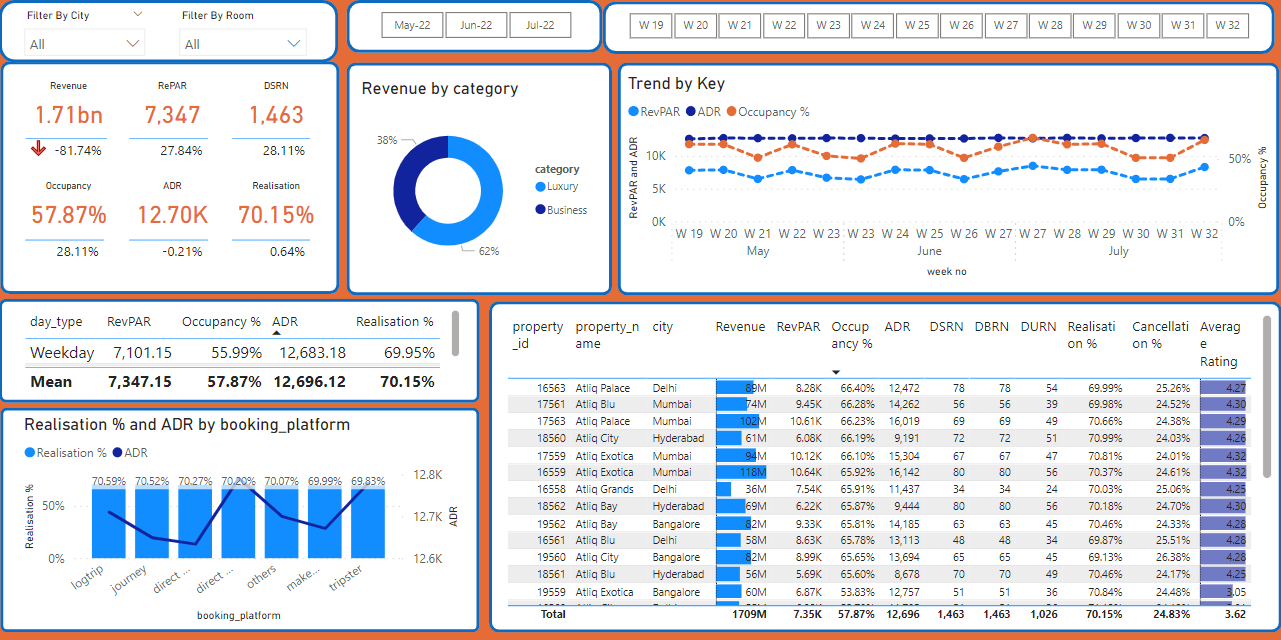

This screenshot's page, from the dashboard's own definition file:
{"tool":"powerbi","page":{"name":"Page 1","canvas":[1282,640],"ordinal":0},"visuals":[{"type":"shape","box":[489.5,301.7,792.5,330.8],"z":0},{"type":"shape","box":[1.7,407.5,479.2,225],"z":1000},{"type":"shape","box":[0,299.2,480.8,104.2],"z":2000},{"type":"shape","box":[0.9,61.8,339.1,232.7],"z":3000},{"type":"shape","box":[618.6,62.9,661.4,232.9],"z":4000},{"type":"shape","box":[348,63,265.5,232.7],"z":5000},{"type":"shape","box":[604,1,672,53],"z":6000},{"type":"shape","box":[347.9,0,256.2,52.5],"z":7000},{"type":"shape","box":[0,0,339.3,62.7],"z":8000},{"type":"tableEx","fields":{"Values":["key_measure_table.\"Occupancy WoW change %"]},"box":[20,206.3,100,72],"z":9000},{"type":"tableEx","fields":{"Values":["key_measure_table.\"Realisation WoW change %"]},"box":[226.6,206.3,100,72],"z":10000},{"type":"tableEx","fields":{"Values":["key_measure_table.\"ADR WoW change %"]},"box":[123.6,206,100,72],"z":11000},{"type":"tableEx","fields":{"Values":["key_measure_table.\"DSRN WoW change %"]},"box":[226.6,105.3,100,72],"z":12000},{"type":"tableEx","fields":{"Values":["key_measure_table.\"Revpar WoW change %"]},"box":[123.6,105,100,72],"z":13000},{"type":"tableEx","fields":{"Values":["dim_hotel.property_id","dim_hotel.property_name","dim_hotel.city","key_measure_table.Revenue","key_measure_table.RevPAR","key_measure_table.Occupancy %","key_measure_table.ADR","key_measure_table.DSRN","key_measure_table.DBRN","key_measure_table.DURN","key_measure_table.Realisation %","key_measure_table.Cancellation %"]},"box":[502,310,775,317],"z":14000},{"type":"slicer","fields":{"Values":["dim_hotel.city"]},"box":[15.3,3.7,141.3,54.7],"z":15000},{"type":"slicer","fields":{"Values":["dim_room.room_class"]},"box":[170,4.3,147.3,53.3],"z":16000},{"type":"slicer","fields":{"Values":["dim_date.mmm yy"]},"box":[356,5.3,240,40],"z":17000},{"type":"slicer","fields":{"Values":["dim_date.week no"]},"box":[610,5.6,658.8,38.8],"z":18000},{"type":"donutChart","fields":{"Category":["dim_hotel.category"],"Y":["key_measure_table.Revenue"]},"box":[358,77.1,245.5,207.3],"z":19000},{"type":"card","title":"RePAR","fields":{"Values":["key_measure_table.RevPAR"]},"box":[119.1,80,109,56],"z":20000},{"type":"card","title":"DSRN","fields":{"Values":["key_measure_table.DSRN"]},"box":[222.1,80.3,109,56],"z":21000},{"type":"card","title":"Occupancy","fields":{"Values":["key_measure_table.Occupancy %"]},"box":[15.5,180.3,109,56],"z":22000},{"type":"card","title":"ADR","fields":{"Values":["key_measure_table.ADR"]},"box":[119.1,180,109,56],"z":23000},{"type":"tableEx","fields":{"Values":["key_measure_table.\"Revenue WoW change %"]},"box":[20,105.3,100,72],"z":24000},{"type":"card","title":"Realisation","fields":{"Values":["key_measure_table.Realisation %"]},"box":[222.1,180.3,109,56],"z":25000},{"type":"card","title":"Revenue","fields":{"Values":["key_measure_table.Revenue"]},"box":[15.5,80.3,109,56],"z":26000},{"type":"lineChart","title":"Trend by Key","fields":{"Y":["key_measure_table.RevPAR","key_measure_table.ADR"],"Category":["dim_date.mmm yy.Variation.Date Hierarchy.Month","dim_date.week no"],"Y2":["key_measure_table.Occupancy %"]},"box":[624.3,72.9,651.4,210],"z":27000},{"type":"lineStackedColumnComboChart","fields":{"Category":["fact_booking.booking_platform"],"Y":["key_measure_table.Realisation %"],"Y2":["key_measure_table.ADR"]},"box":[20,414.2,445.8,212.5],"z":28000},{"type":"tableEx","fields":{"Values":["dim_date.day_type","key_measure_table.RevPAR","key_measure_table.Occupancy %","key_measure_table.ADR","key_measure_table.Realisation %"]},"box":[20.5,305.5,445.6,91.8],"z":29000}]}

Visuals, with their boxes in screenshot pixels (x1, y1, x2, y2), scaled from the page's 1282x640 canvas onto the 1281x640 screenshot:
shape: bbox=[489, 302, 1280, 632]
shape: bbox=[2, 408, 481, 632]
shape: bbox=[0, 299, 480, 403]
shape: bbox=[1, 62, 340, 294]
shape: bbox=[618, 63, 1279, 296]
shape: bbox=[348, 63, 613, 296]
shape: bbox=[604, 1, 1275, 54]
shape: bbox=[348, 0, 604, 52]
shape: bbox=[0, 0, 339, 63]
tableEx - key_measure_table."Occupancy WoW change %: bbox=[20, 206, 120, 278]
tableEx - key_measure_table."Realisation WoW change %: bbox=[226, 206, 326, 278]
tableEx - key_measure_table."ADR WoW change %: bbox=[124, 206, 223, 278]
tableEx - key_measure_table."DSRN WoW change %: bbox=[226, 105, 326, 177]
tableEx - key_measure_table."Revpar WoW change %: bbox=[124, 105, 223, 177]
tableEx - dim_hotel.property_id x dim_hotel.property_name: bbox=[502, 310, 1276, 627]
slicer - dim_hotel.city: bbox=[15, 4, 156, 58]
slicer - dim_room.room_class: bbox=[170, 4, 317, 58]
slicer - dim_date.mmm yy: bbox=[356, 5, 596, 45]
slicer - dim_date.week no: bbox=[610, 6, 1268, 44]
donutChart - dim_hotel.category x key_measure_table.Revenue: bbox=[358, 77, 603, 284]
"RePAR" card: bbox=[119, 80, 228, 136]
"DSRN" card: bbox=[222, 80, 331, 136]
"Occupancy" card: bbox=[15, 180, 124, 236]
"ADR" card: bbox=[119, 180, 228, 236]
tableEx - key_measure_table."Revenue WoW change %: bbox=[20, 105, 120, 177]
"Realisation" card: bbox=[222, 180, 331, 236]
"Revenue" card: bbox=[15, 80, 124, 136]
"Trend by Key" lineChart: bbox=[624, 73, 1275, 283]
lineStackedColumnComboChart - fact_booking.booking_platform x key_measure_table.Realisation %: bbox=[20, 414, 465, 627]
tableEx - dim_date.day_type x key_measure_table.RevPAR: bbox=[20, 306, 466, 397]
